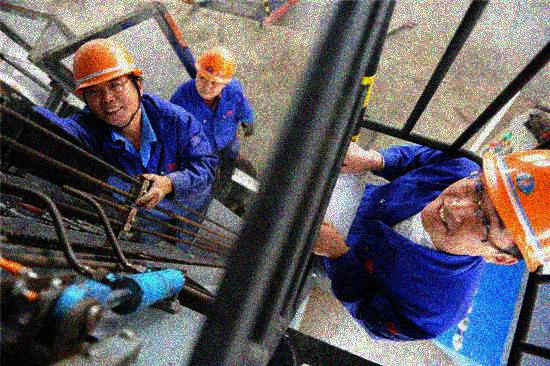helmet: (420, 146, 550, 276), (69, 36, 146, 128), (194, 47, 237, 99)
